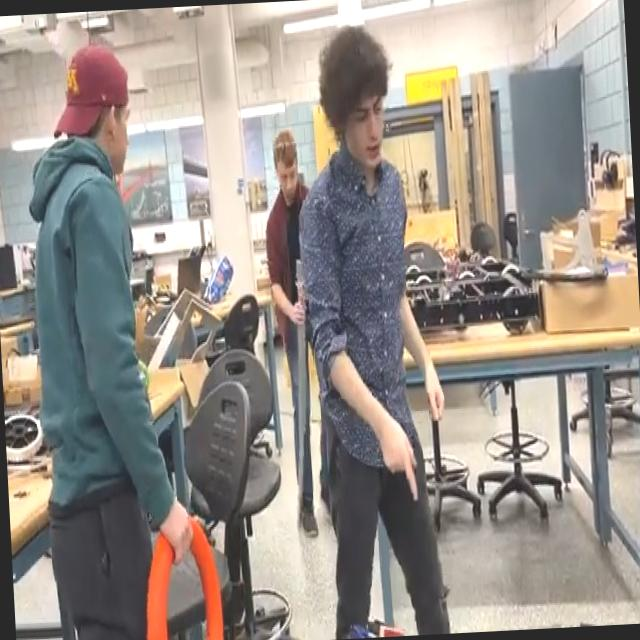note: (138, 508, 228, 640)
